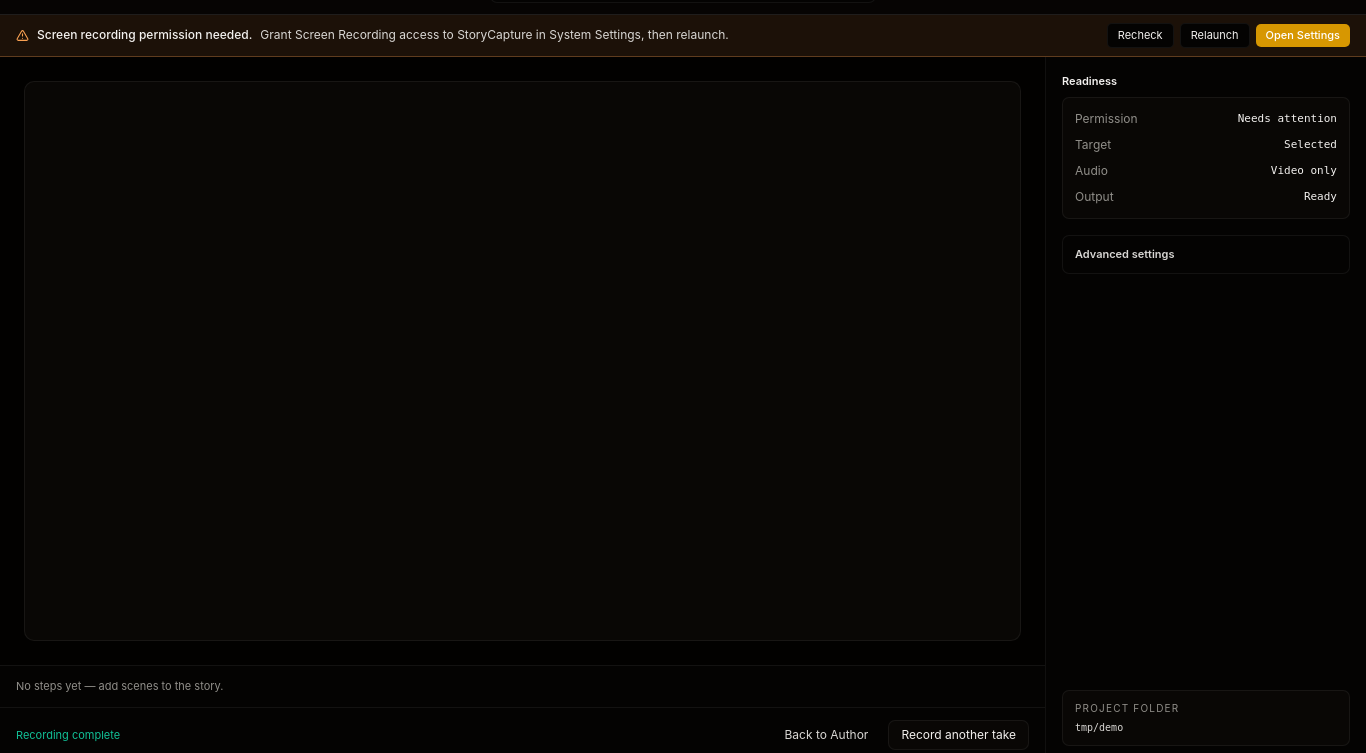
Test: RecordingView take lifecycle › keeps a quality-failed Strict take out of project publication
(page scrolled)
Click the button with aria-label "New take".
click(959, 735)  # box x1=888 y1=720 x2=1029 y2=750
(page scrolled)
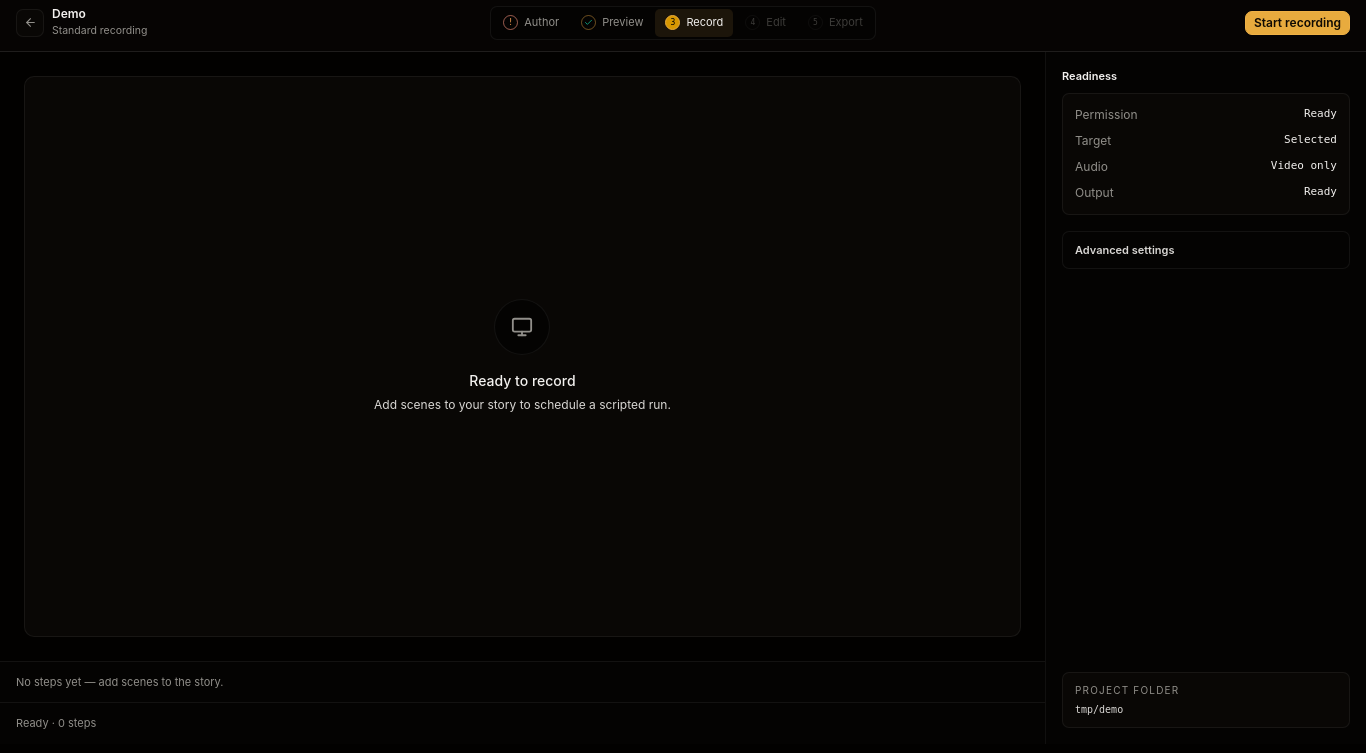
Click the button "Start recording".
click(1297, 22)  # box x1=1245 y1=10 x2=1350 y2=34
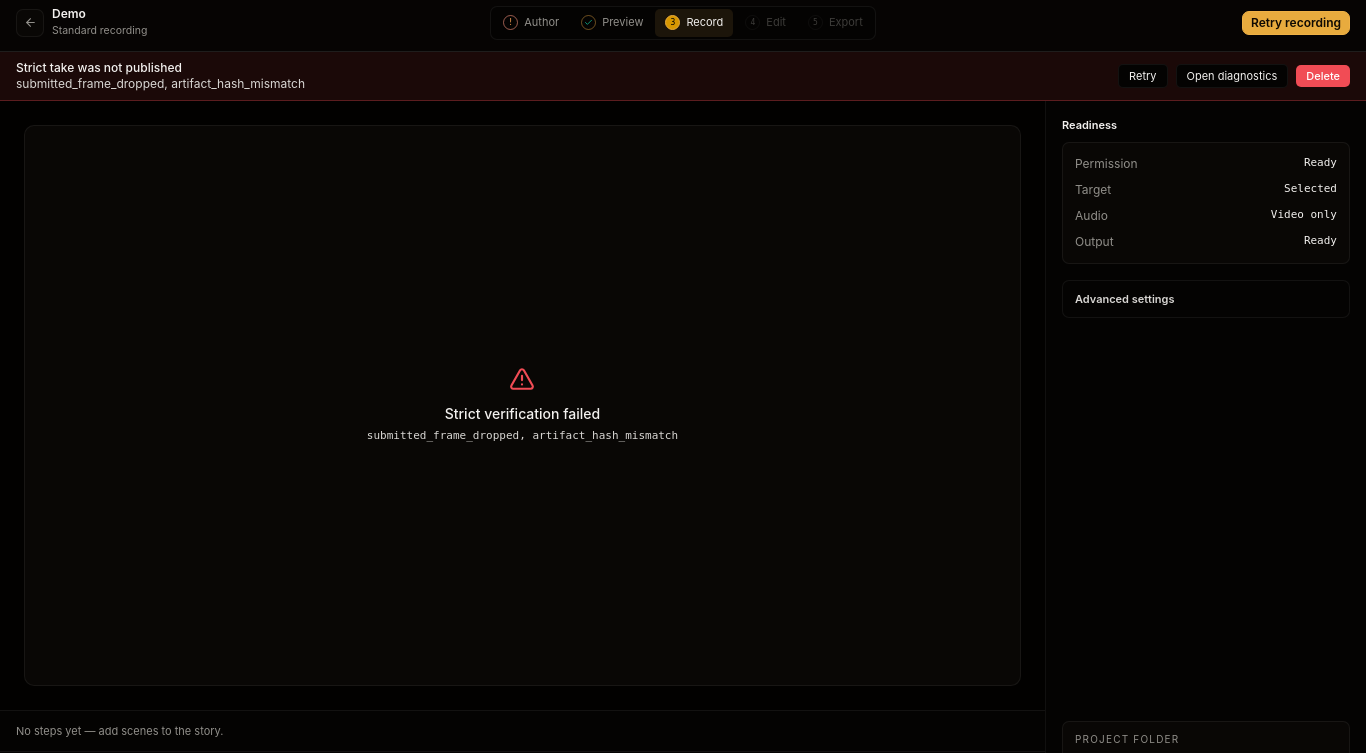
Check: the text "Strict take was not published" is shown, box x1=16 y1=60 x2=182 y2=75
